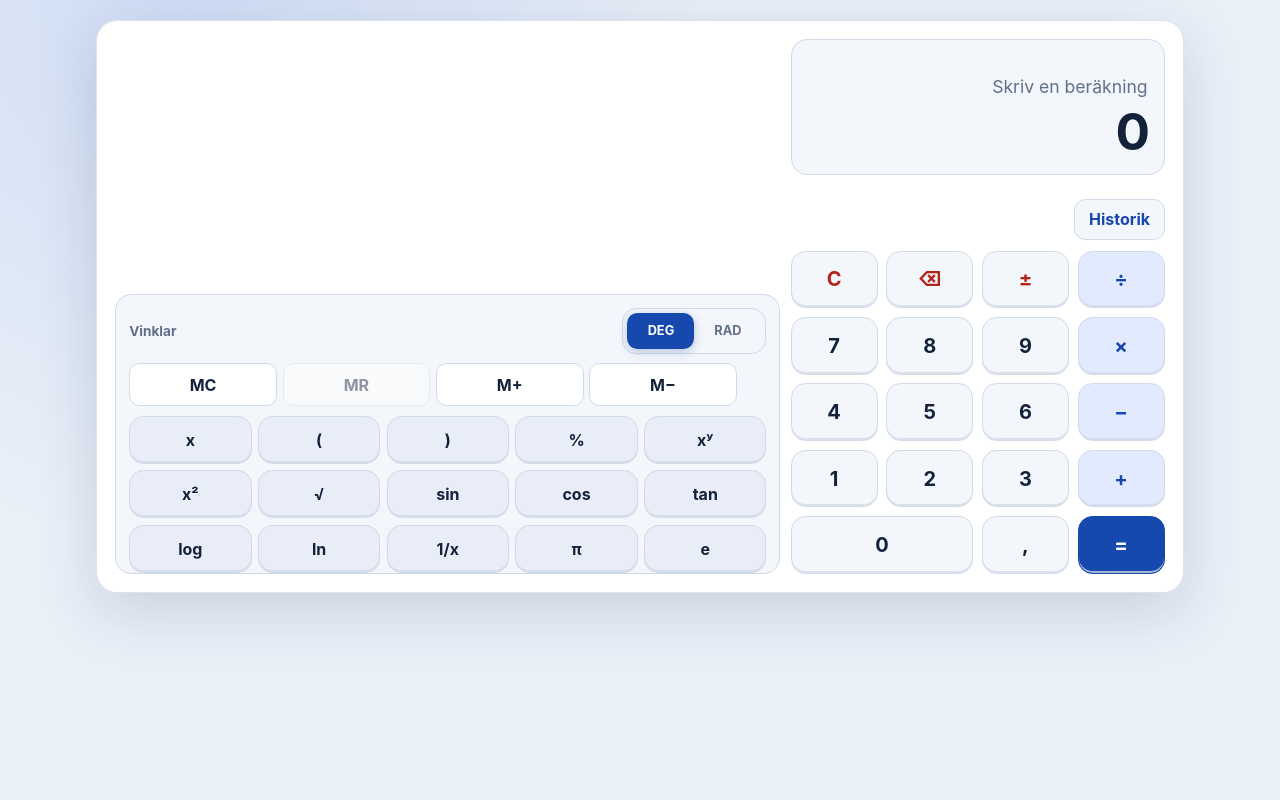
Calculator UI › completes a basic calculation without a mode selector
Click the button "1".
click(834, 478)  # box [791, 450, 878, 507]
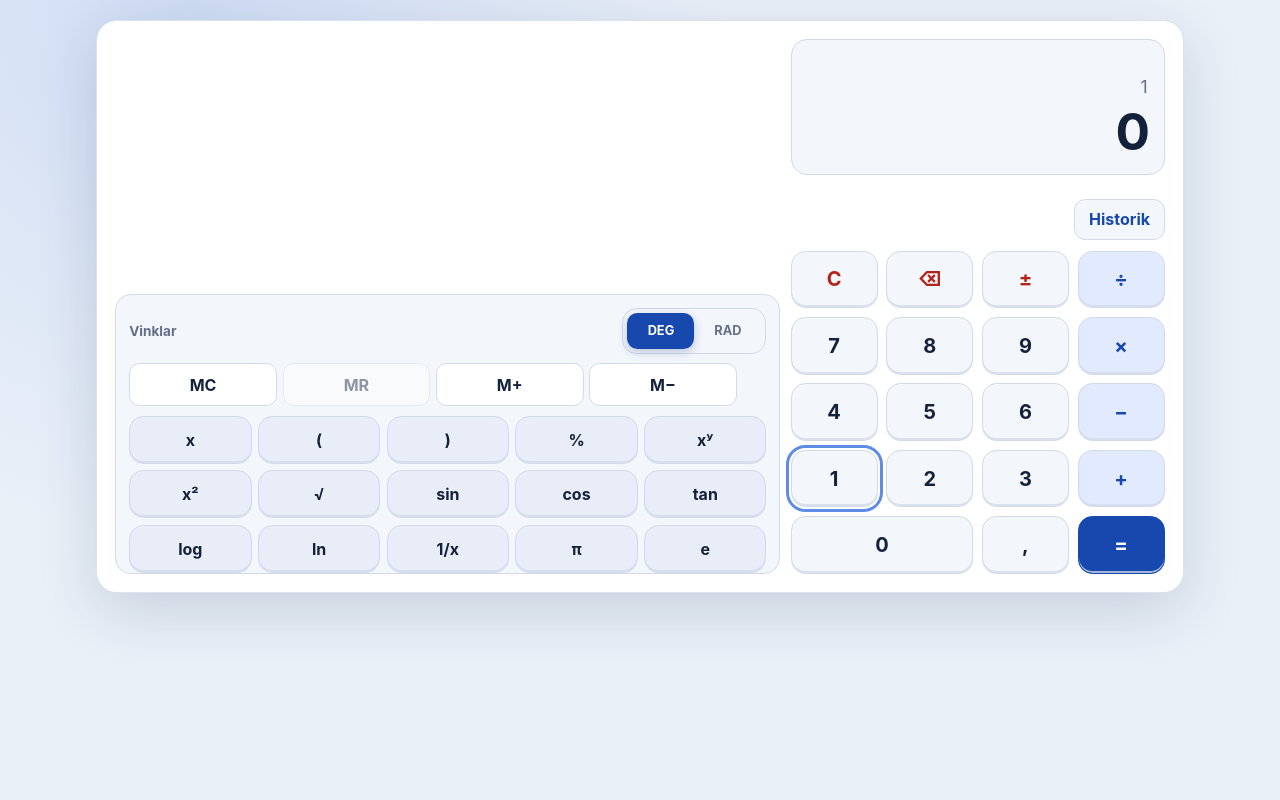
Click the button "2".
click(930, 478)  # box [886, 450, 973, 507]
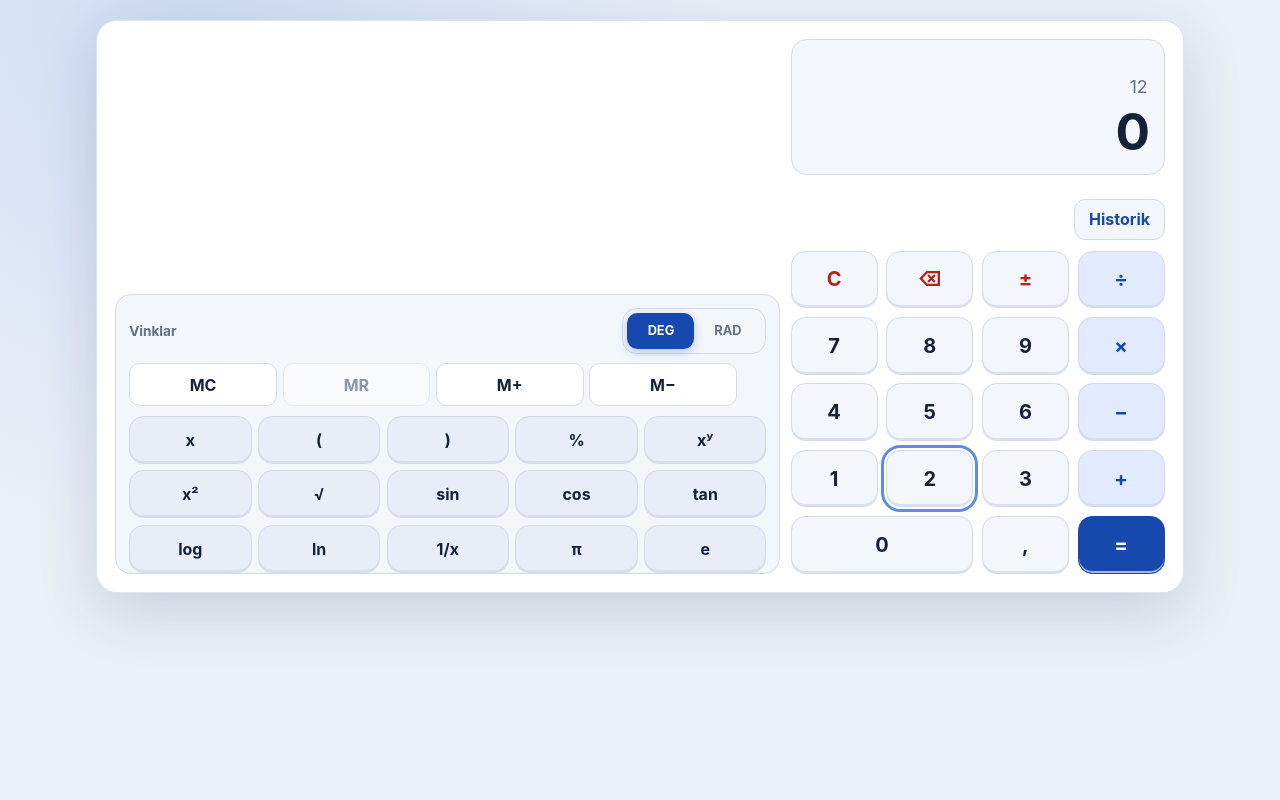
Click the button named "Addition".
click(1121, 478)  # box [1078, 450, 1165, 507]
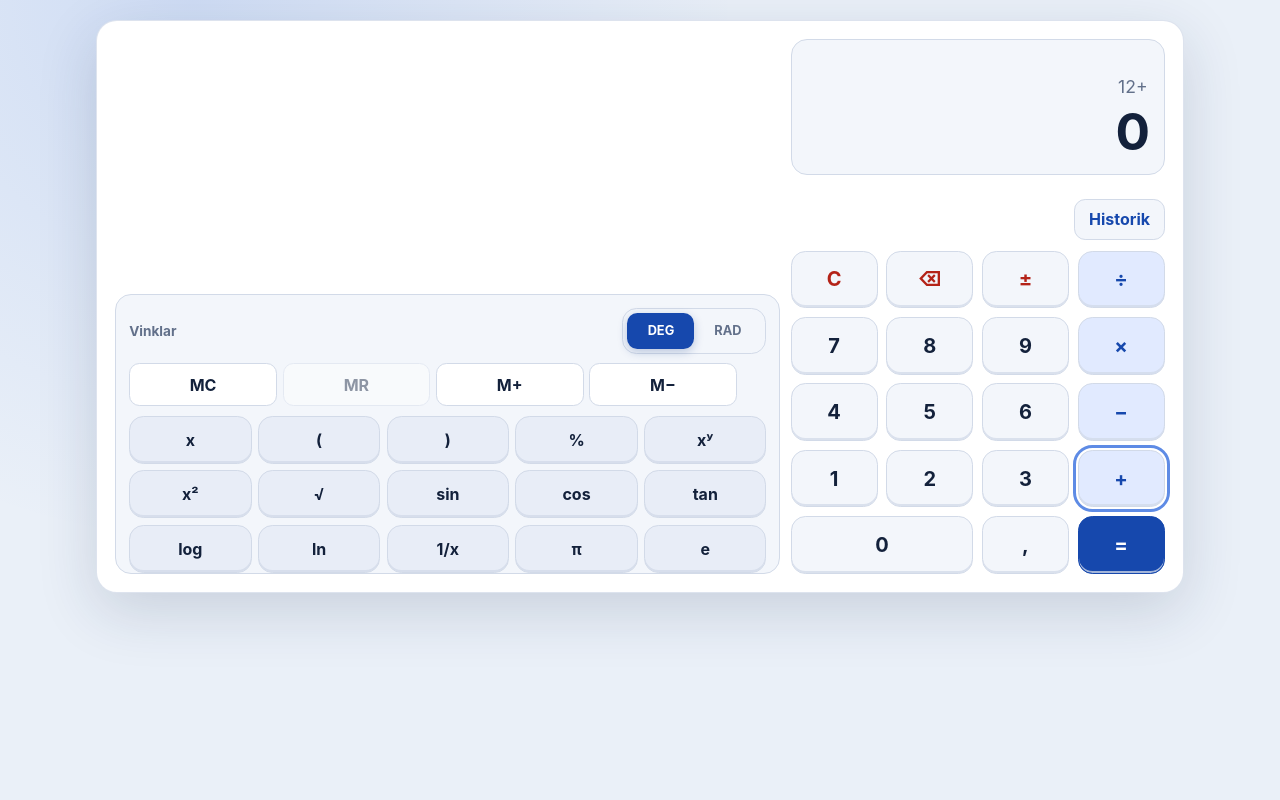
Click the button "7".
click(834, 346)  # box [791, 317, 878, 375]
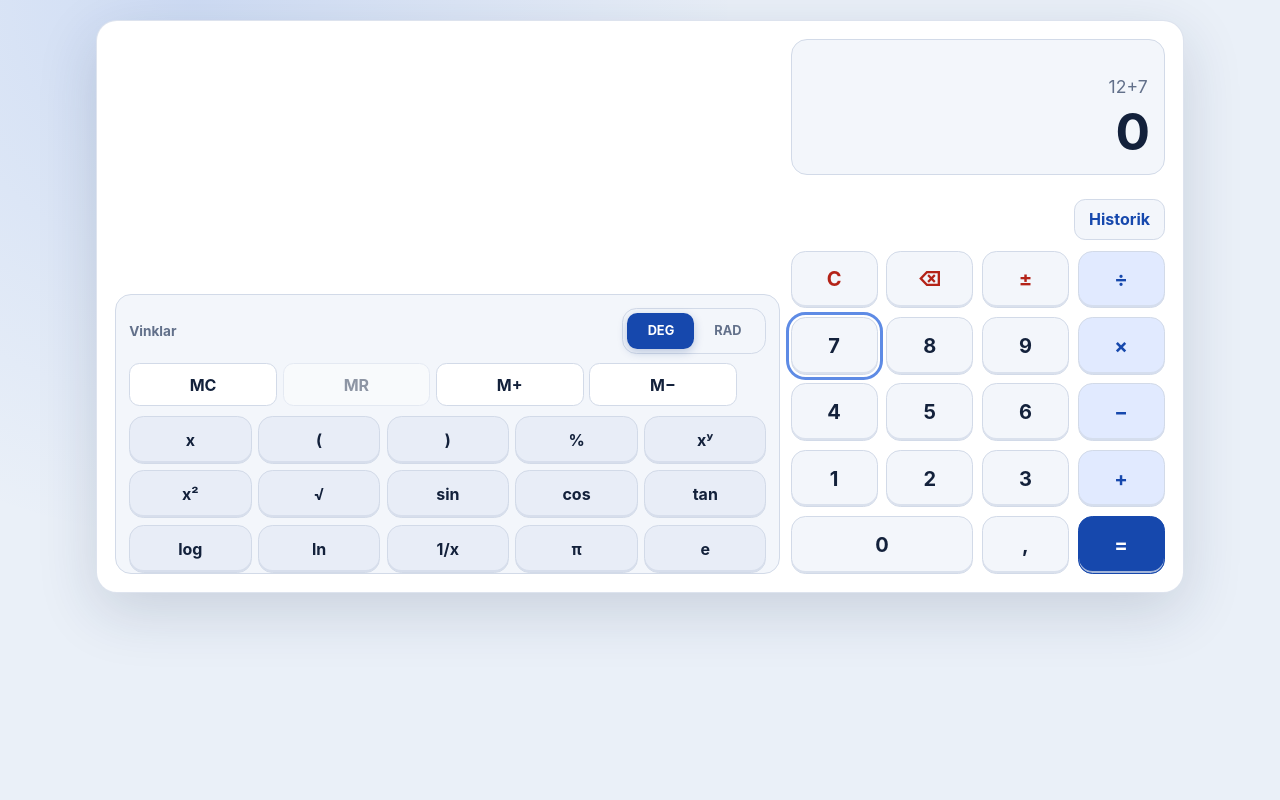
Click the button named "Beräkna".
click(1121, 545)  # box [1078, 516, 1165, 574]
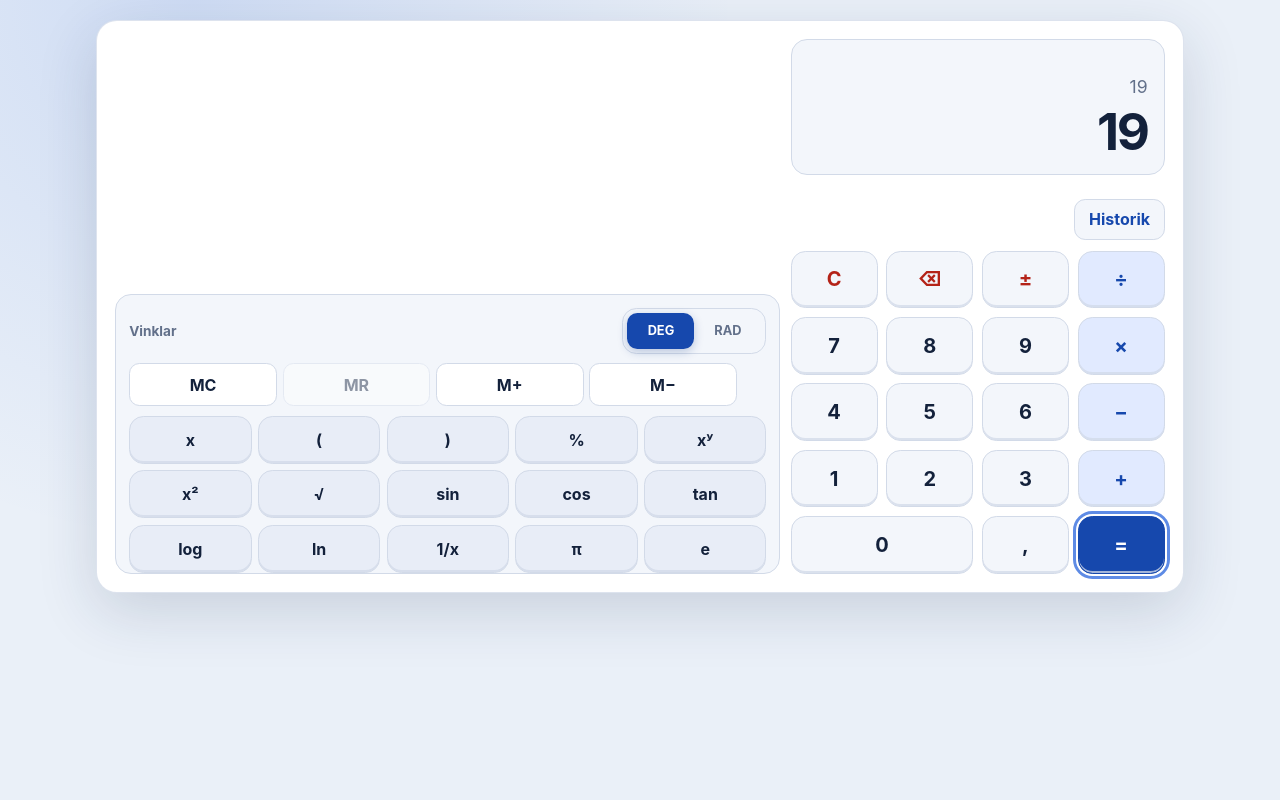
Check: the message shows "19", box [1130, 76, 1148, 98]
